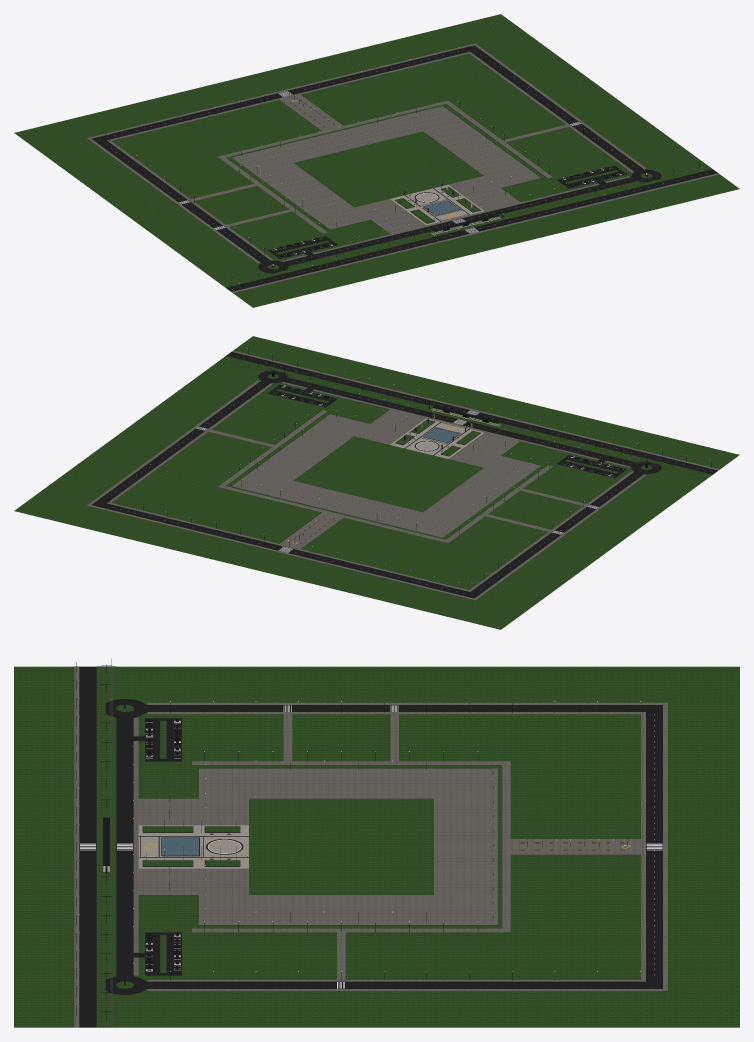
The model's file is site.glb.
3 renders of one model, top to bottom at view 1: azimuth 30°, elevation 25°; view 2: azimuth 150°, elevation 25°; view 3: azimuth 270°, elevation 25°, orthographic. The views are drawn at different scales.
Parts seen in each view (by area): view 1: lawn_site, paving_site, asphalt_site, granite_light_site, black_metal_site, granite_dark_site, glass_site, steel_site; view 2: lawn_site, paving_site, asphalt_site, granite_light_site, black_metal_site, granite_dark_site, steel_site; view 3: lawn_site, paving_site, asphalt_site, granite_light_site, steel_site, black_metal_site, granite_dark_site, white_site, glass_site, mirror_water_site.
Boxes of the visible parts, <box> form: lawn_site: <box>14,14,739,307</box>; paving_site: <box>87,43,719,293</box>; asphalt_site: <box>91,45,717,291</box>; granite_light_site: <box>390,184,484,225</box>; black_metal_site: <box>109,57,699,278</box>; granite_dark_site: <box>395,187,480,223</box>; glass_site: <box>272,167,620,256</box>; steel_site: <box>221,165,708,286</box>; lawn_site: <box>14,336,739,629</box>; paving_site: <box>87,350,719,600</box>; asphalt_site: <box>92,352,717,598</box>; granite_light_site: <box>390,418,484,458</box>; black_metal_site: <box>109,348,711,579</box>; granite_dark_site: <box>395,419,480,456</box>; steel_site: <box>222,357,709,477</box>; lawn_site: <box>14,666,739,1027</box>; paving_site: <box>74,666,667,1027</box>; asphalt_site: <box>79,666,662,1027</box>; granite_light_site: <box>138,825,248,868</box>; steel_site: <box>100,658,236,1026</box>; black_metal_site: <box>76,662,645,1019</box>; granite_dark_site: <box>138,826,248,866</box>; white_site: <box>80,705,662,988</box>; glass_site: <box>103,719,180,970</box>; mirror_water_site: <box>162,837,198,855</box>.
Bounding box in the file's own units: 600 × 11.27 × 510.
Materials: 16 (6 with a texture image).
